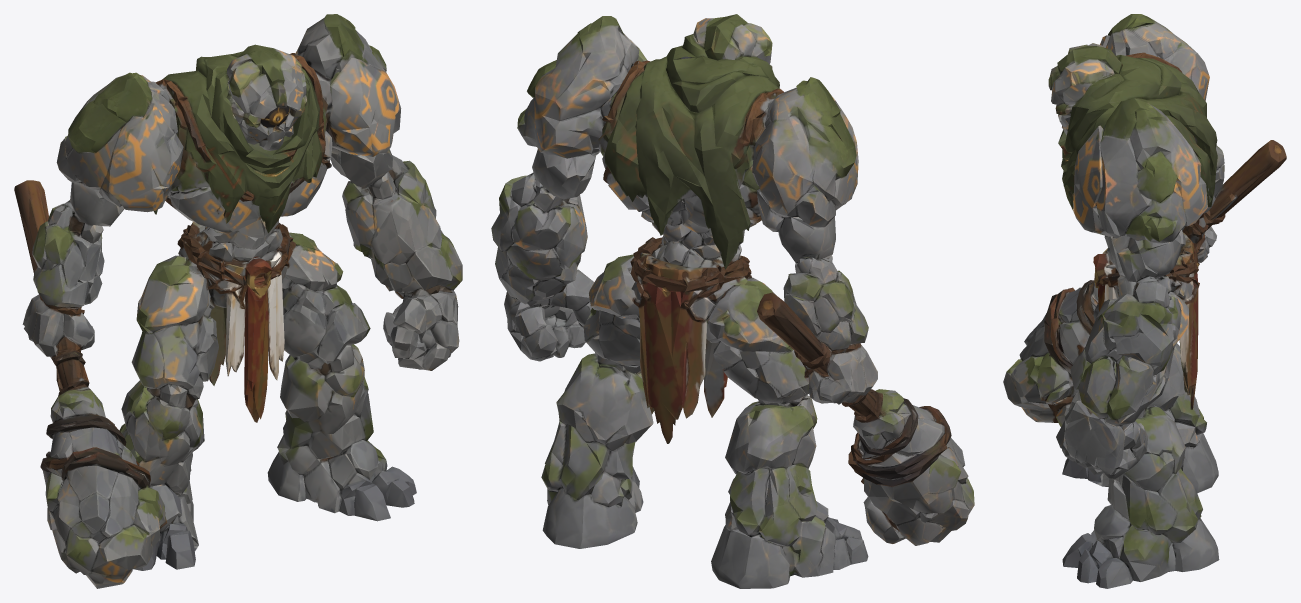
File: Stone.fbx
3 renders of one model, left to right at view 1: azimuth 30°, elevation 25°; view 2: azimuth 150°, elevation 25°; view 3: azimuth 270°, elevation 25°, orthographic. The views are drawn at different scales.
Parts seen in each view (by area): view 1: output_unwrapped; view 2: output_unwrapped; view 3: output_unwrapped.
Part boxes in pixels (x1,y1,x2,y2): output_unwrapped: (14, 14, 462, 588); output_unwrapped: (491, 14, 974, 588); output_unwrapped: (1003, 14, 1286, 588).
Size of the model in its own units: 176 by 190 by 105.
1 material, 1 textured.
